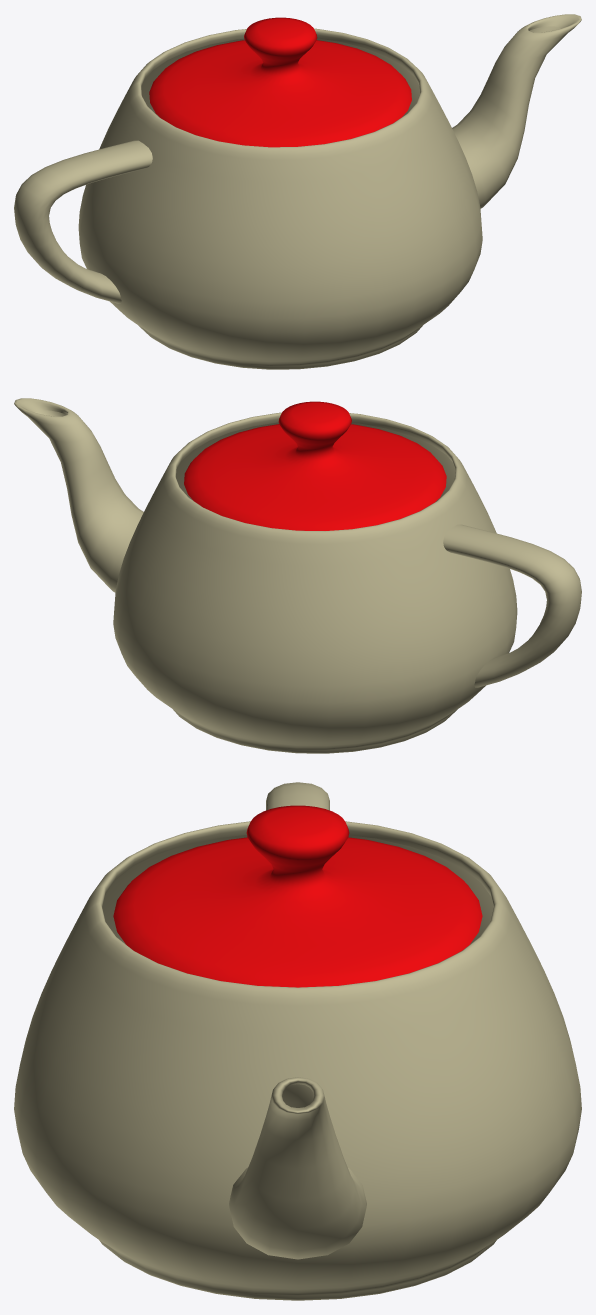
File: tea.glb
The picture shows the model from 3 angles, top to bottom: view 1: azimuth 30°, elevation 25°; view 2: azimuth 150°, elevation 25°; view 3: azimuth 270°, elevation 25°; orthographic projection. The views are drawn at different scales.
Parts seen in each view (by area): view 1: tea, huta; view 2: tea, huta; view 3: tea, huta.
Boxes of the visible parts, bbox=[...] form: tea: bbox=[14, 14, 581, 369]; huta: bbox=[149, 17, 411, 147]; tea: bbox=[14, 398, 581, 753]; huta: bbox=[184, 401, 446, 530]; tea: bbox=[14, 782, 581, 1300]; huta: bbox=[113, 805, 482, 987].
Bounding box in the file's own units: 0.5603 × 0.2744 × 0.3484.
